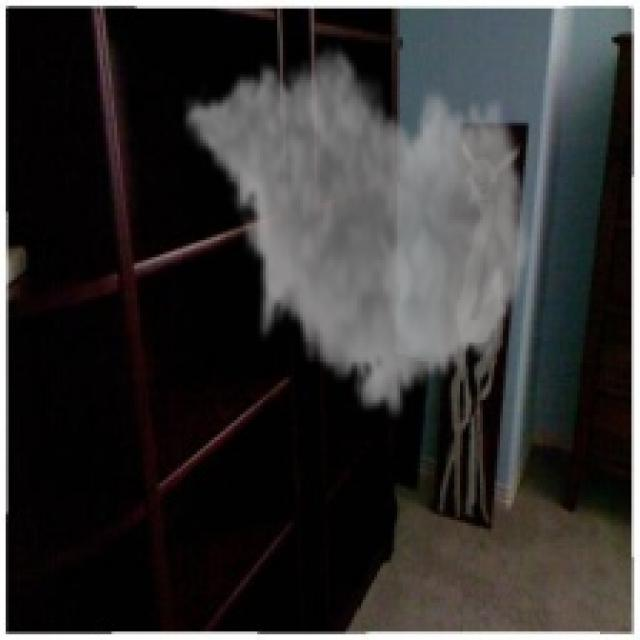smoke: (180, 37, 534, 426)
